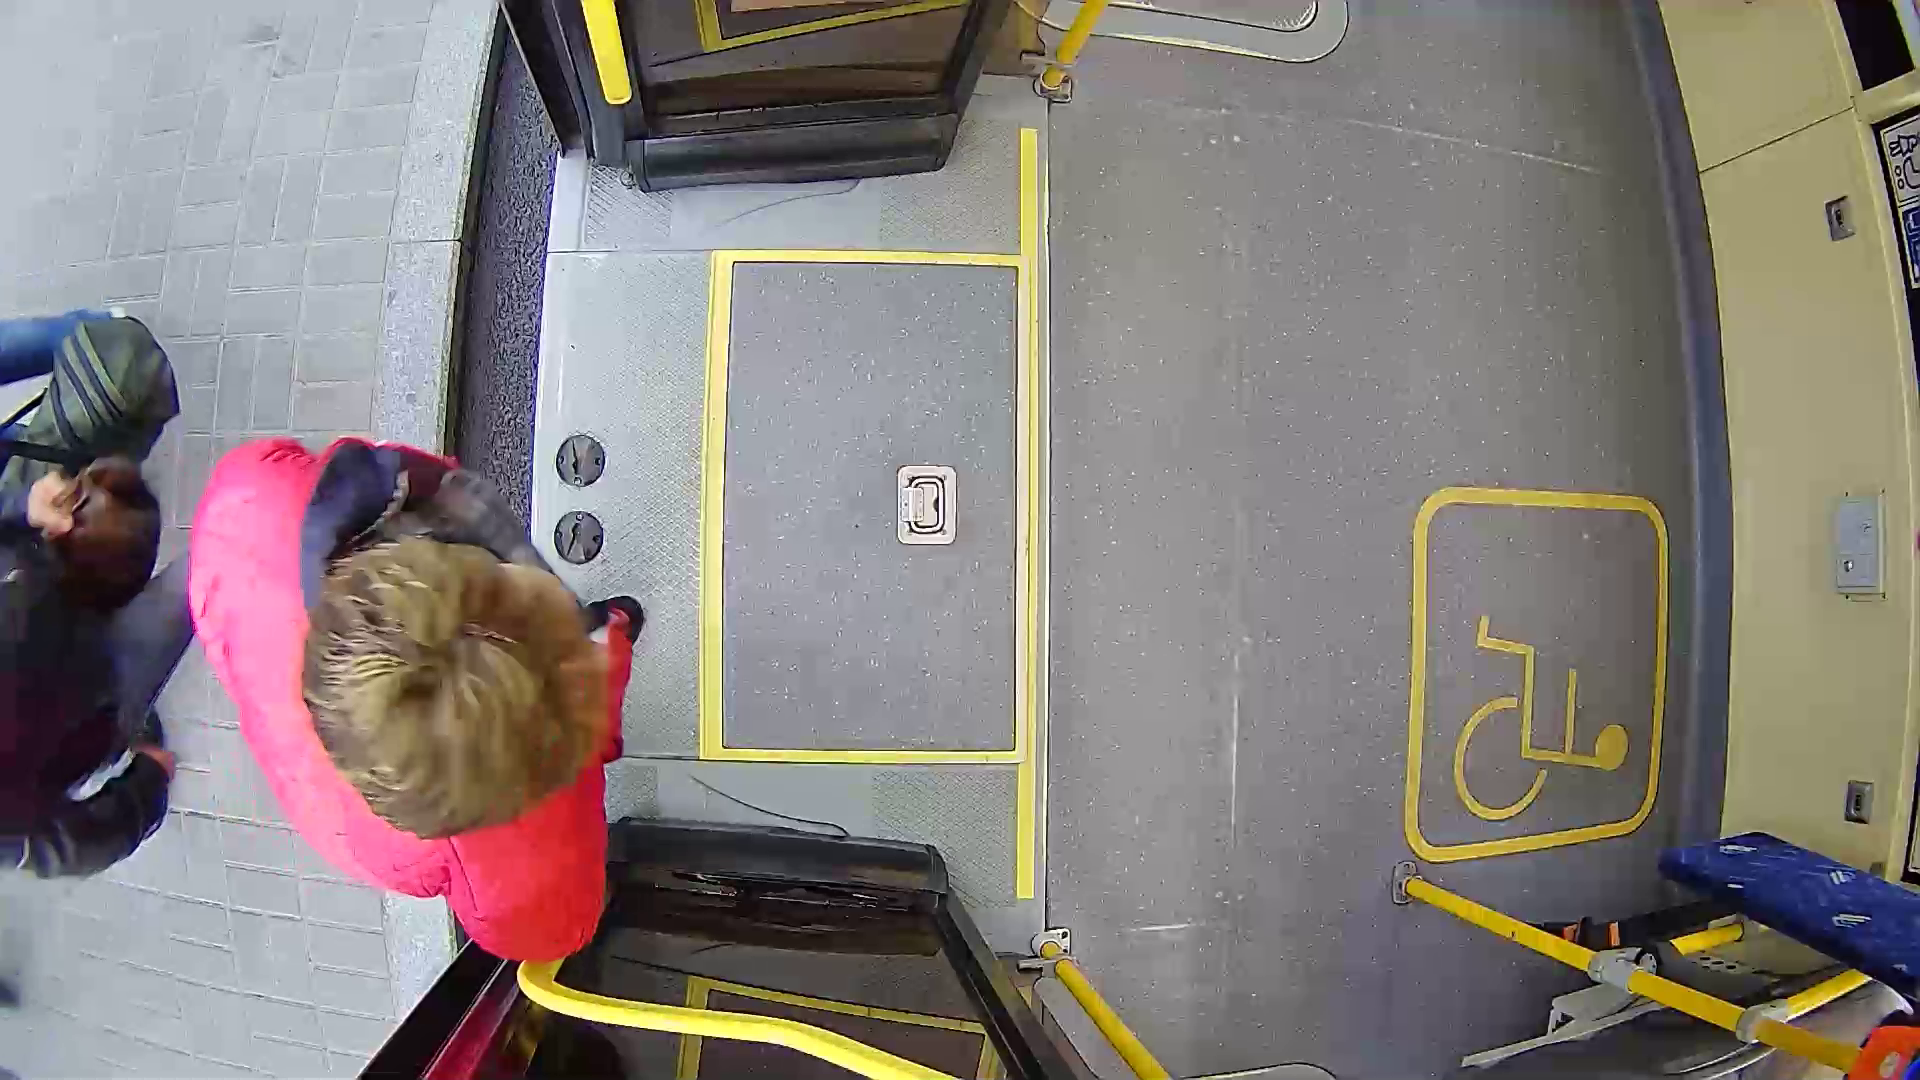person: (180, 422, 756, 959)
